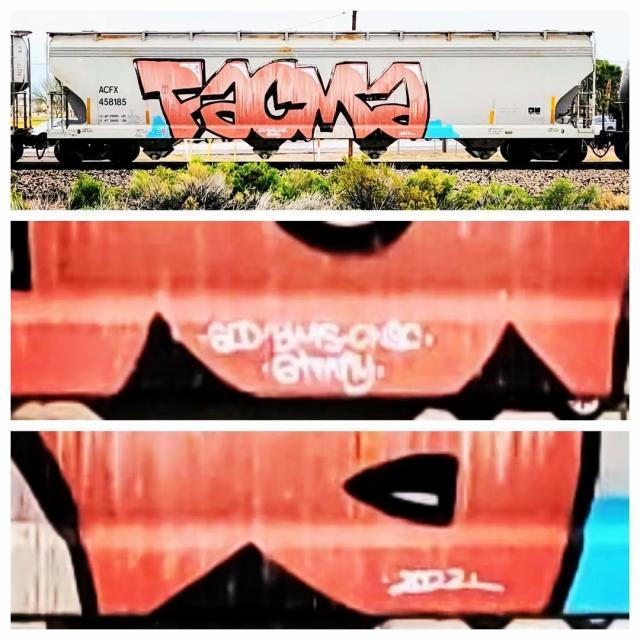-: (10, 223, 632, 424), (11, 430, 627, 618), (130, 55, 467, 146), (194, 320, 442, 397), (382, 563, 512, 606), (94, 84, 128, 110)
